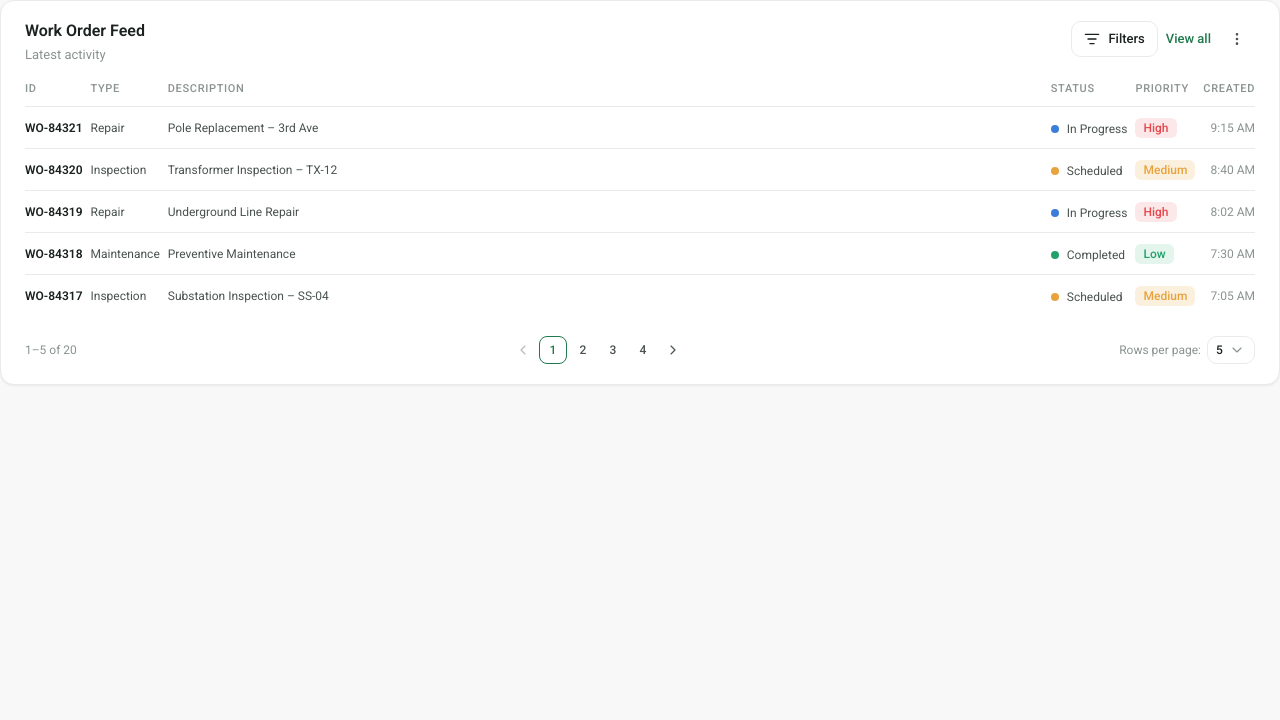
Test: WorkOrderFeed › returns to the first page when the page size changes
The width and height of the screenshot is (1280, 720).
Click the button named "Page 4": (643, 350) [629,336,657,364]
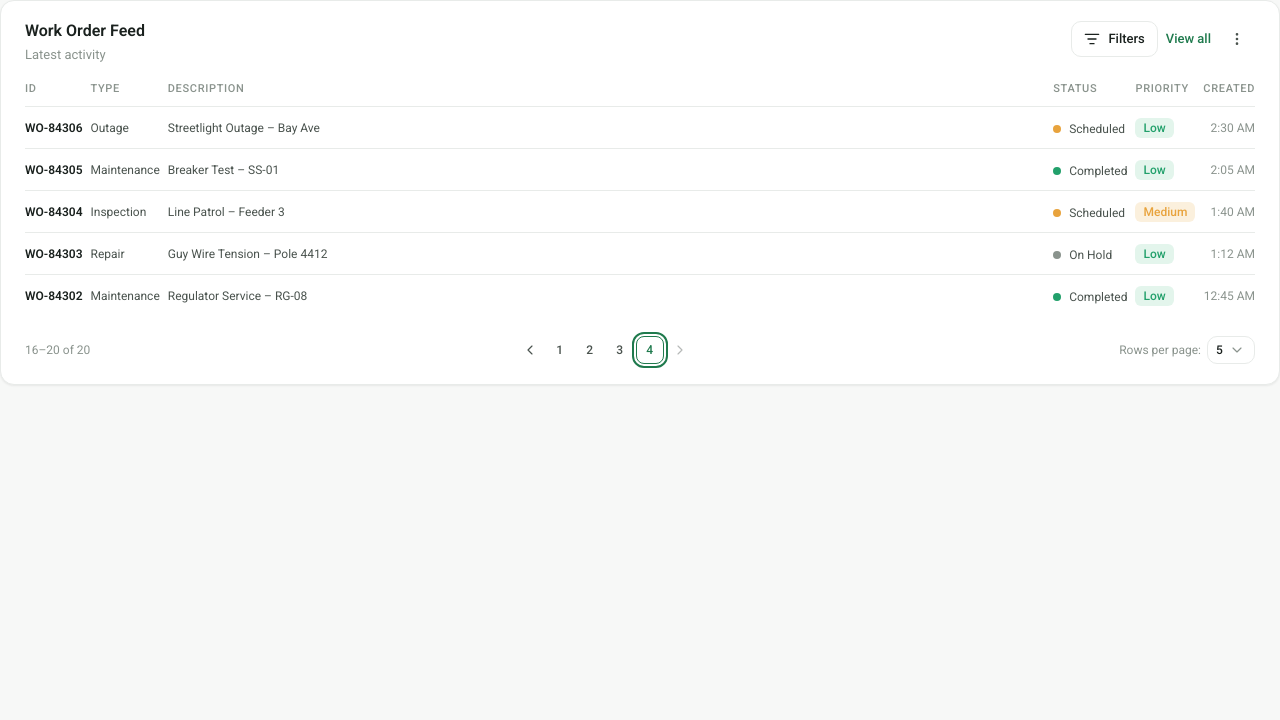
expect the text "16–20 of 20" is shown: met, box [25,342,90,358]
Select "10" in the dropdown labelled "Rows per page": (1231, 350) [1207,336,1255,364]
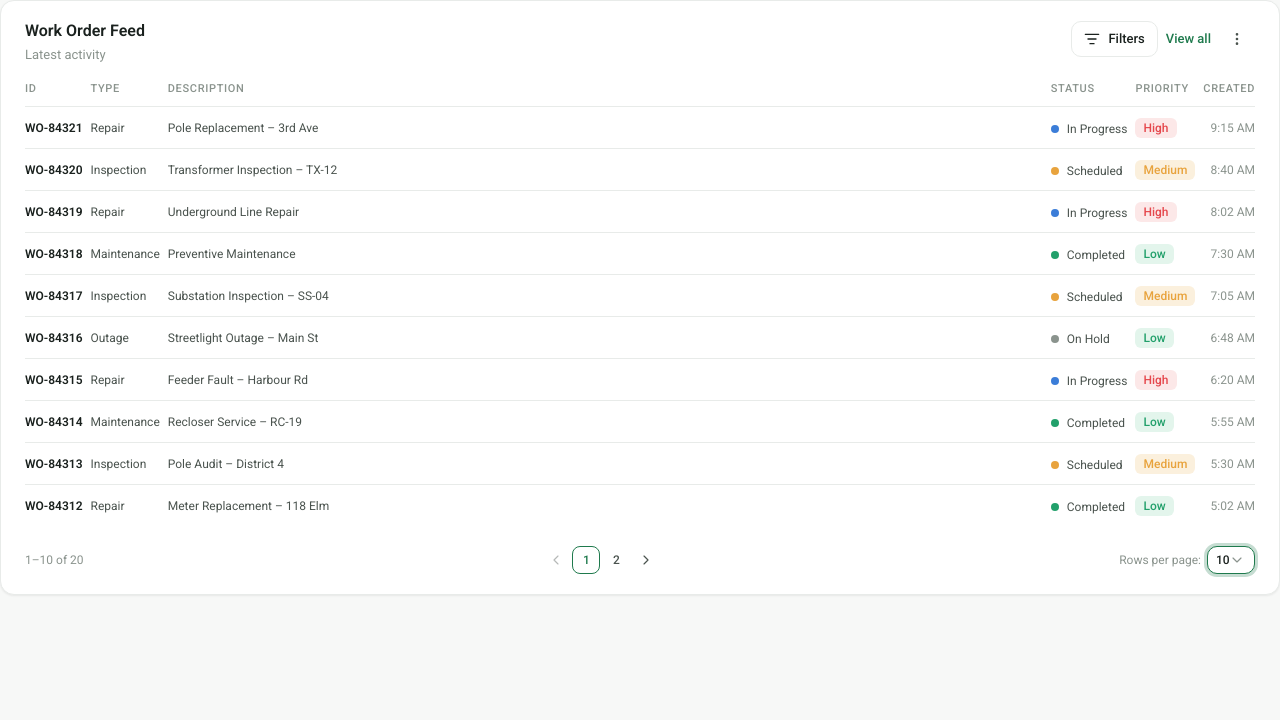
expect the text "1–10 of 20" is shown: met, box [25,552,84,568]
